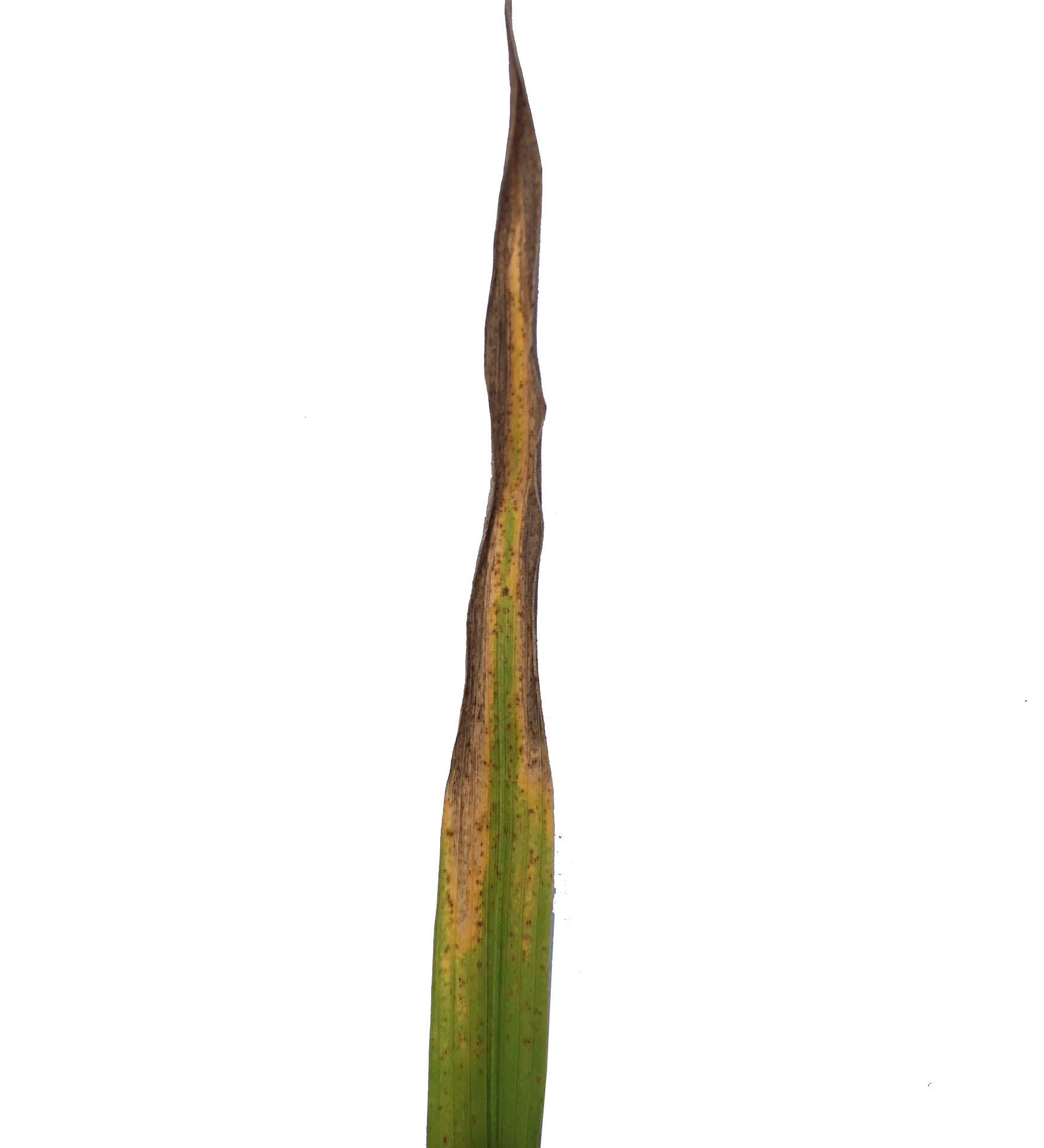Rice blast: (422, 0, 574, 807)
Tungro: (422, 804, 574, 1148)
